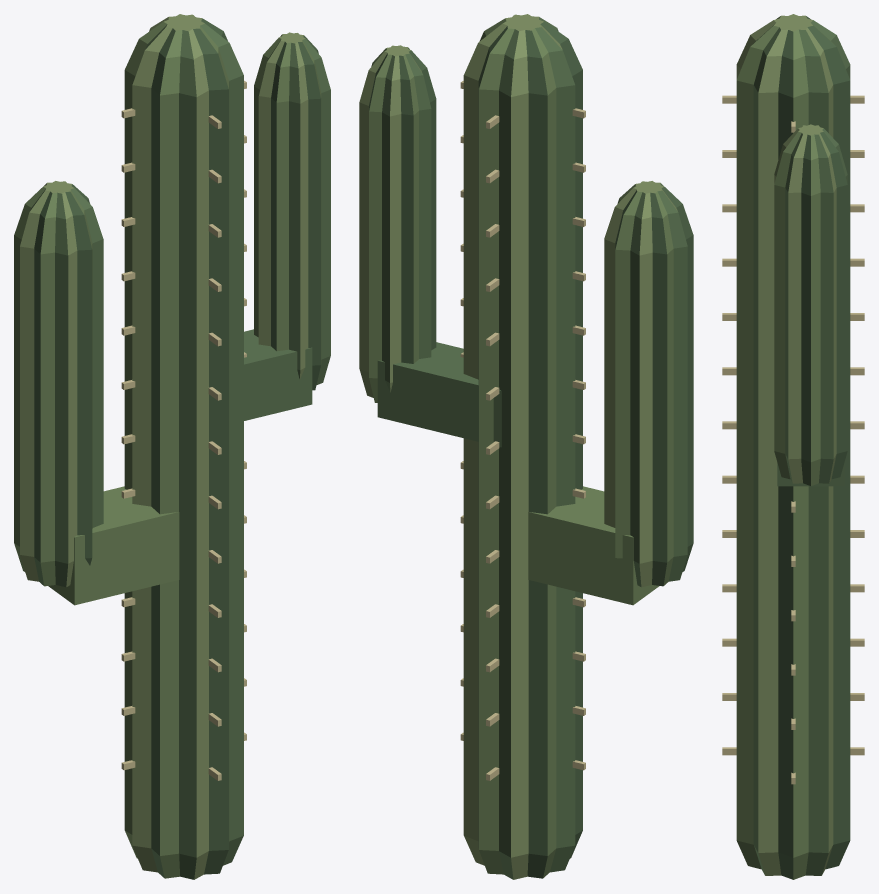
The model's file is cardon-omaguaca.glb.
The picture shows the model from 3 angles, left to right: view 1: azimuth 30°, elevation 25°; view 2: azimuth 150°, elevation 25°; view 3: azimuth 270°, elevation 25°; orthographic projection.
Parts seen in each view (by area): view 1: cardon-omaguaca; view 2: cardon-omaguaca; view 3: cardon-omaguaca.
Boxes of the visible parts, x1,y1,x2,y2 form: cardon-omaguaca: [14, 14, 330, 879]; cardon-omaguaca: [359, 14, 693, 879]; cardon-omaguaca: [722, 14, 864, 879].
Bounding box in the file's own units: 1.45 × 3.7 × 0.569.
